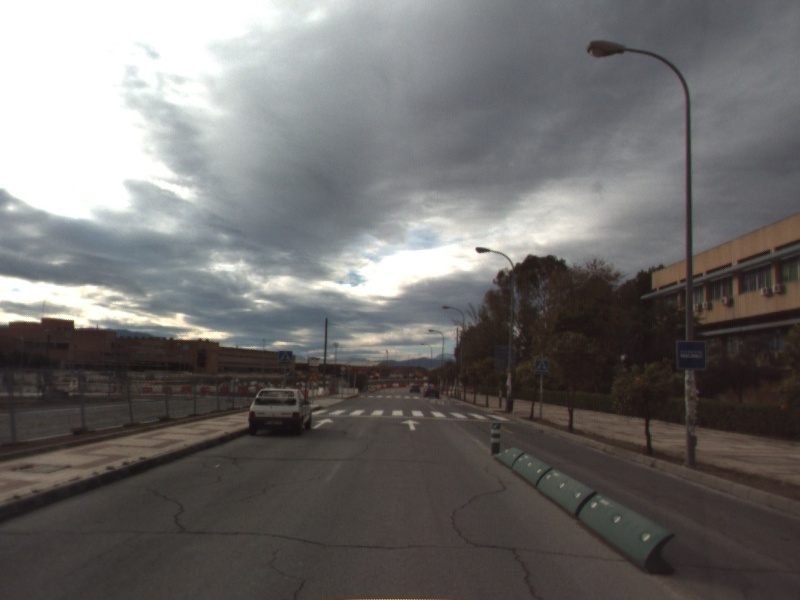STRAIGHT: (309, 416, 336, 431), (399, 417, 422, 432)
